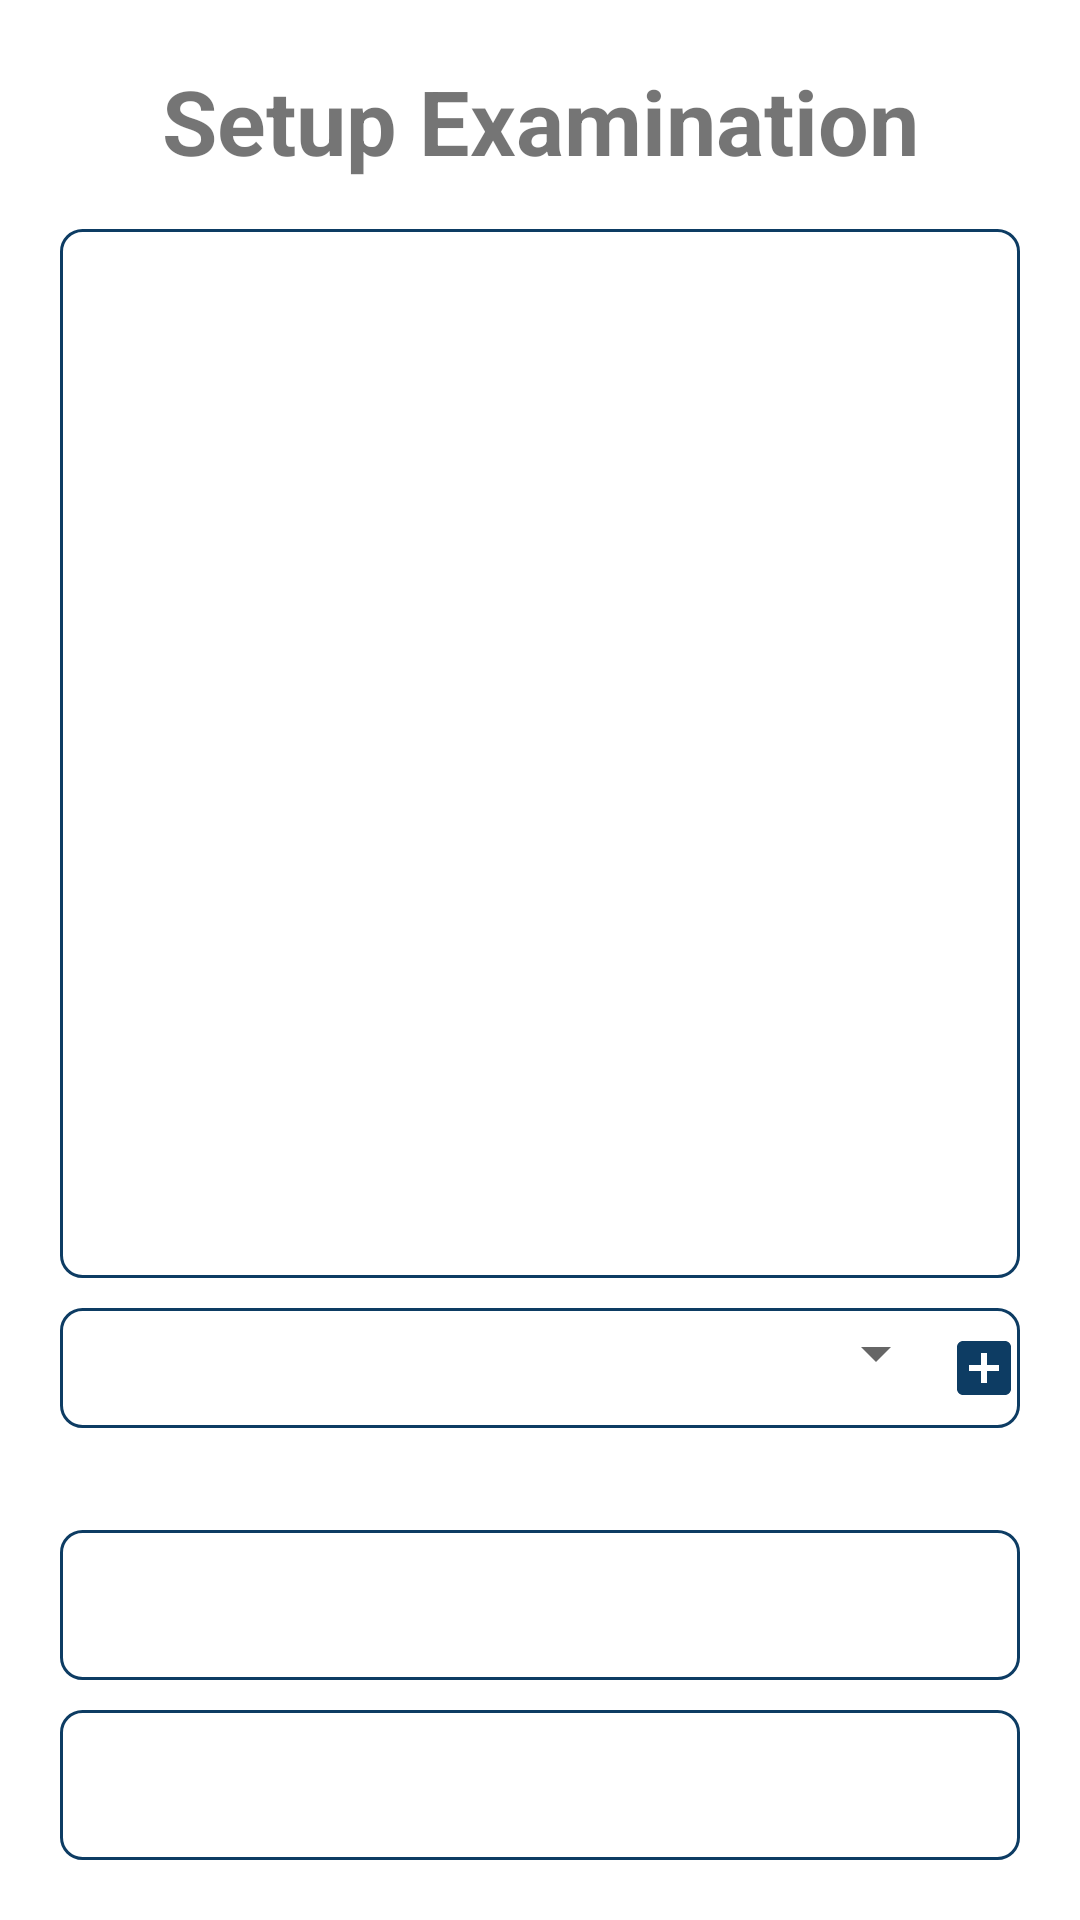

Where to tap for icons on this 1080 x 1920 app screen, as (x=x, y=y):
add box: (x=984, y=1368)
